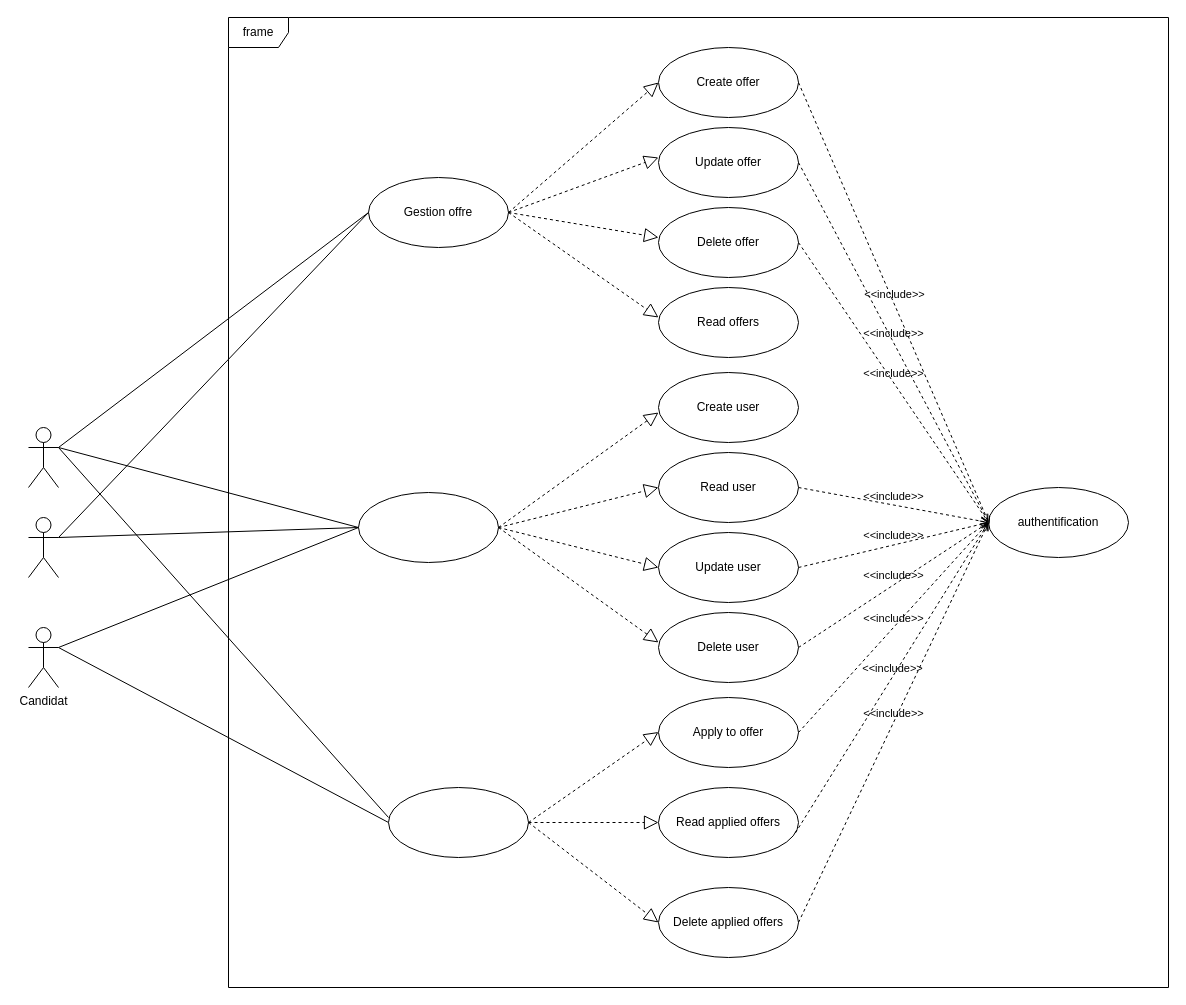
The diagram is 1186 pixels wide and 1005 high, and some of its shapes have lost their labels. Here are the shapes that lost their labels. From the top down, the box of each, then its label:
(28, 426, 58, 488): Admin
(28, 516, 58, 578): Recruteur
(358, 492, 498, 562): Gestion user
(388, 786, 528, 858): Gestion candidature
